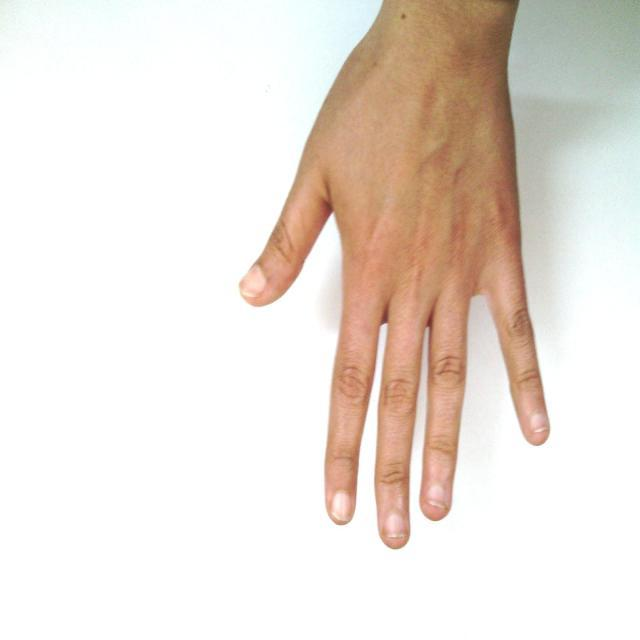Fingernail: (239, 265, 269, 297), (331, 490, 353, 522), (425, 482, 449, 510), (384, 509, 407, 537), (530, 412, 548, 432)
